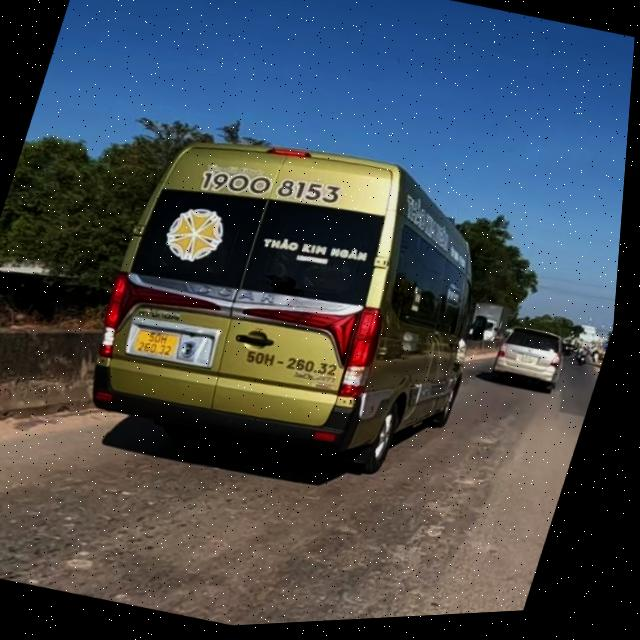car: (59, 95, 534, 514), (482, 310, 577, 402)
plate: (125, 315, 185, 364), (510, 348, 541, 370)
